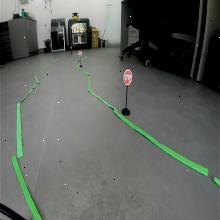stop: (123, 69, 133, 85)
